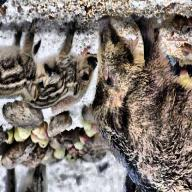boar: (94, 25, 192, 192), (9, 34, 93, 131)
